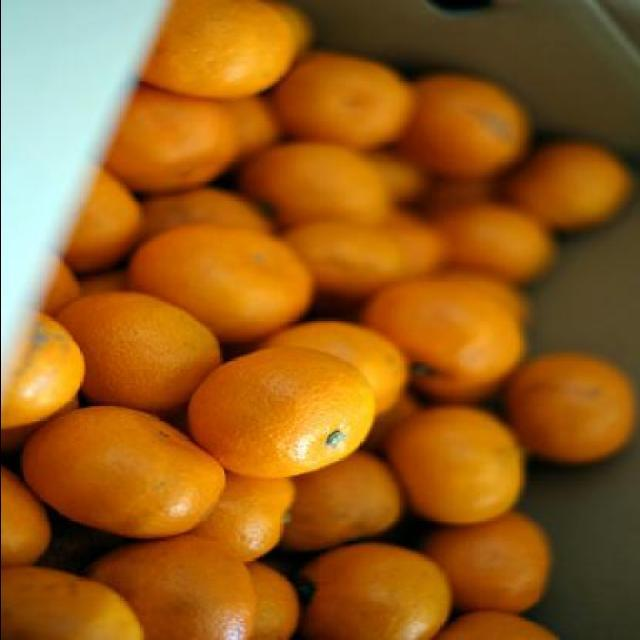Orange: (26, 402, 226, 538), (187, 347, 370, 476), (123, 224, 314, 338), (58, 291, 218, 420), (373, 407, 522, 527), (74, 543, 251, 640), (370, 286, 521, 392), (99, 81, 241, 184), (514, 358, 640, 462), (399, 72, 532, 170), (145, 7, 293, 95), (284, 53, 418, 150), (300, 548, 446, 636), (271, 320, 414, 406), (424, 522, 550, 612), (512, 146, 634, 228), (0, 320, 86, 434), (4, 570, 141, 638), (289, 462, 397, 542), (251, 147, 377, 215), (282, 220, 400, 292), (59, 167, 141, 270), (458, 204, 566, 273), (193, 480, 285, 558), (142, 189, 270, 231), (414, 175, 496, 219), (1, 484, 44, 564), (392, 214, 452, 268), (258, 566, 304, 634), (448, 612, 550, 640), (226, 100, 274, 144), (46, 264, 86, 312)
